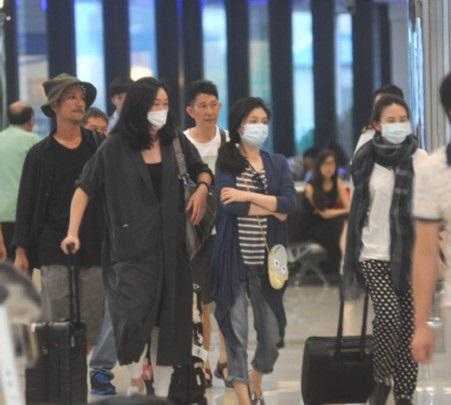NONE: (62, 88, 90, 119), (196, 99, 223, 127), (115, 86, 135, 113), (321, 154, 337, 178)
OK: (381, 110, 413, 142), (242, 114, 270, 147), (149, 95, 169, 128)
